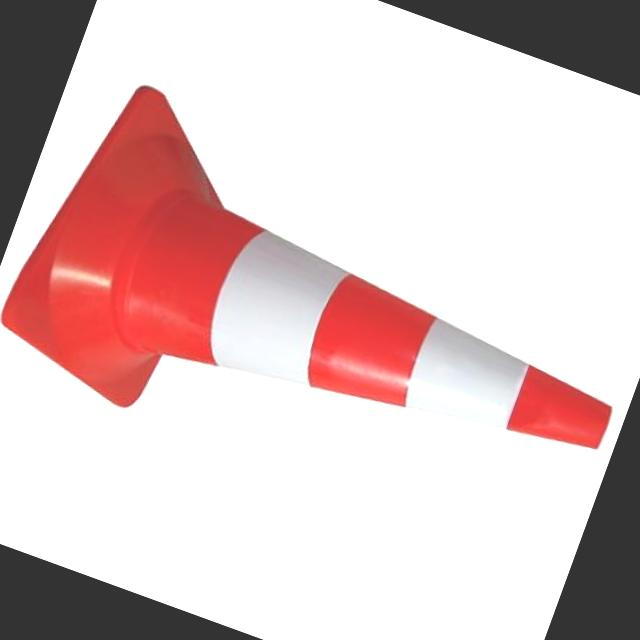cone: (0, 95, 640, 543)
